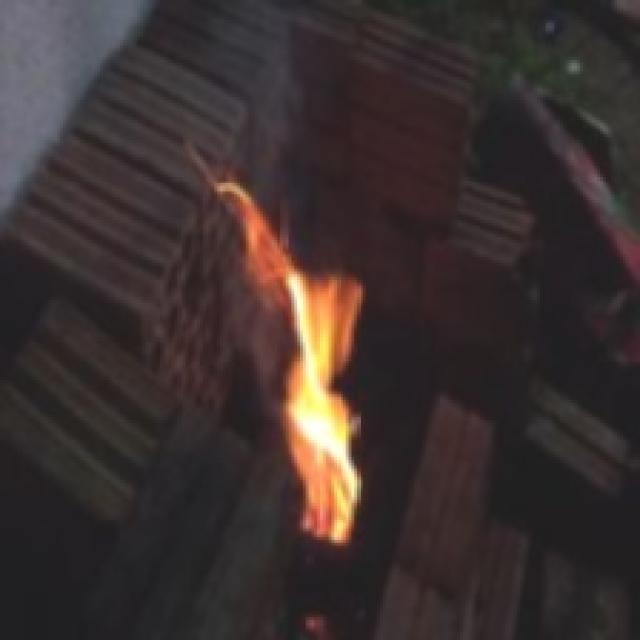fire: (232, 182, 377, 562)
